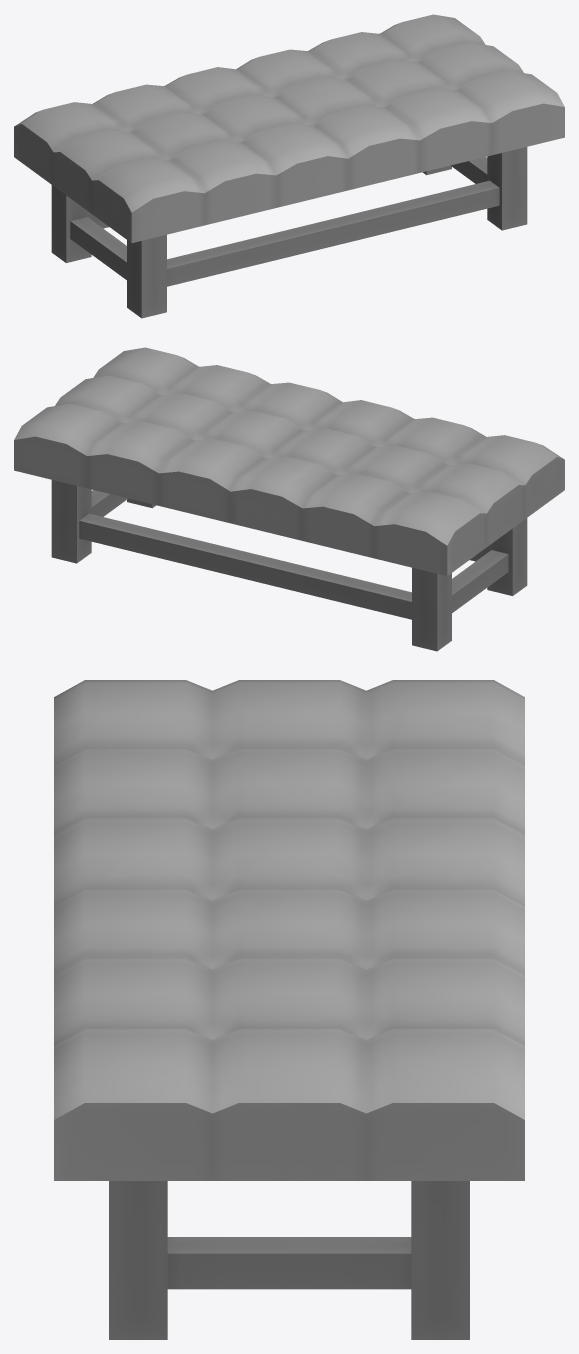
The model's file is Pfb_CoatHanger__3.fbx.
3 renders of one model, top to bottom at view 1: azimuth 30°, elevation 25°; view 2: azimuth 150°, elevation 25°; view 3: azimuth 270°, elevation 25°, orthographic. The views are drawn at different scales.
Parts seen in each view (by area): view 1: MAT_Coathanger_Dark_Smooth; view 2: MAT_Coathanger_Dark_Smooth; view 3: MAT_Coathanger_Dark_Smooth.
Boxes of the visible parts, x1,y1,x2,y2 form: MAT_Coathanger_Dark_Smooth: [14, 14, 564, 318]; MAT_Coathanger_Dark_Smooth: [14, 347, 564, 651]; MAT_Coathanger_Dark_Smooth: [54, 680, 524, 1339].
Bounding box in the file's own units: 1.41 × 0.4327 × 0.6638.
Materials: 1 (1 with a texture image).
